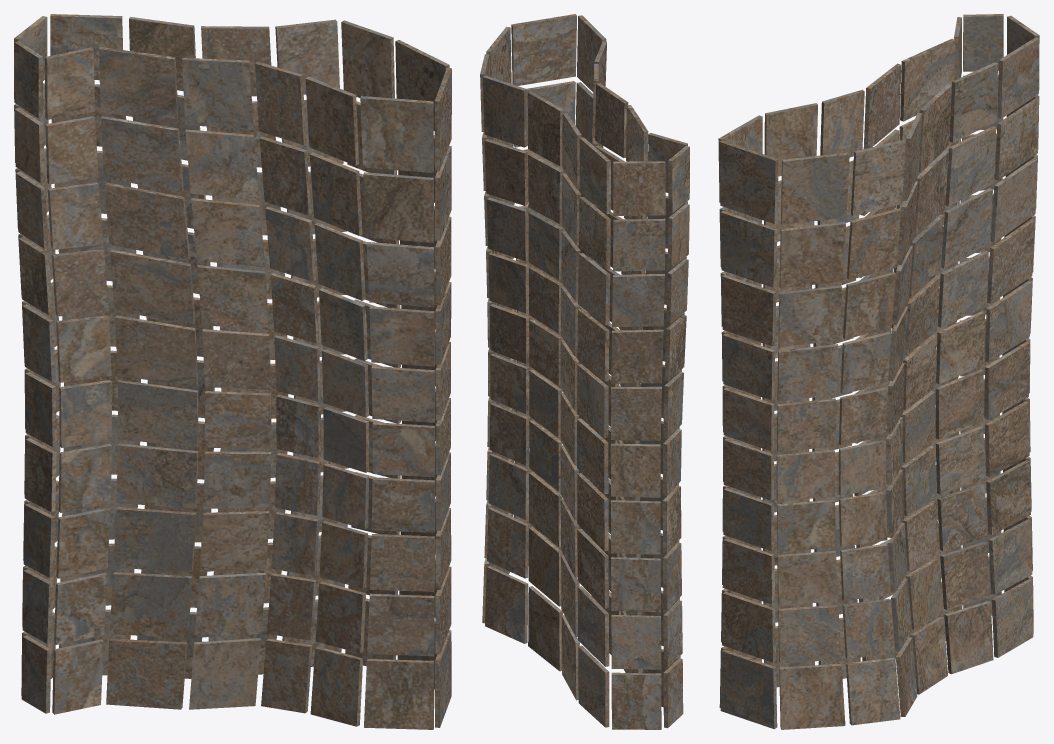
3 views of the same model, side by side, from view 1: azimuth 30°, elevation 25°; view 2: azimuth 150°, elevation 25°; view 3: azimuth 270°, elevation 25° (orthographic). The views are drawn at different scales.
Visible parts, largest first — view 1: A_Baked; view 2: A_Baked; view 3: A_Baked.
Boxes of the visible parts, left/top/right/bottom form: A_Baked: left=14, top=14, right=451, bottom=729; A_Baked: left=480, top=14, right=689, bottom=729; A_Baked: left=718, top=14, right=1039, bottom=729.
Size of the model in its own units: 279 by 560 by 273.
1 material, 1 textured.
